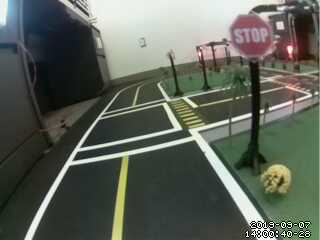Stop_Sign: (228, 13, 274, 59)
